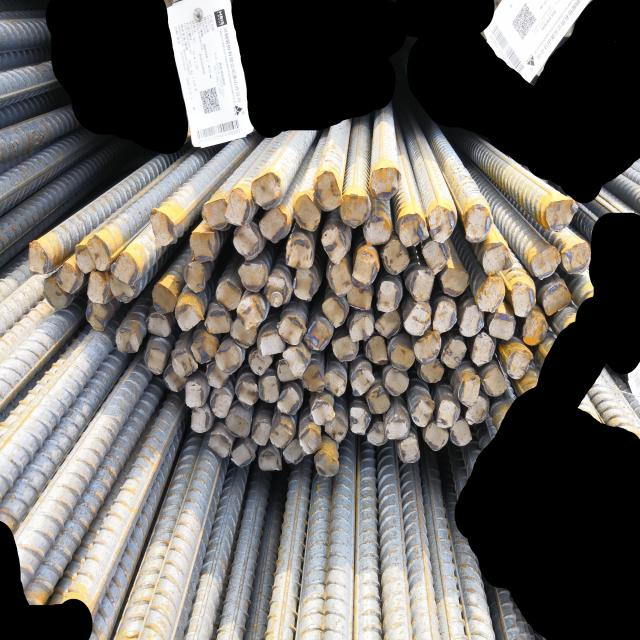Steel-Rod: (314, 171, 343, 213), (253, 172, 283, 209), (372, 162, 401, 200), (226, 189, 251, 228), (153, 210, 178, 247), (205, 198, 230, 229), (88, 236, 110, 271), (113, 252, 138, 282), (29, 241, 51, 275), (57, 265, 81, 293)
